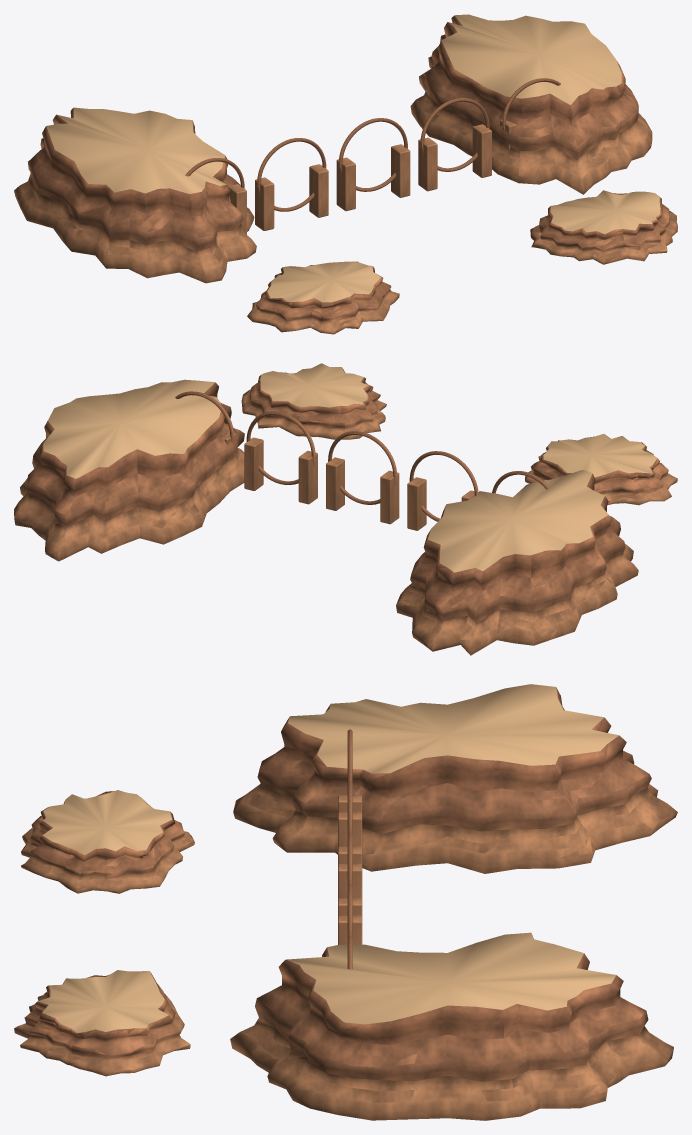
File: desert-ruins-v1.glb
3 views of the same model, one above another, from view 1: azimuth 30°, elevation 25°; view 2: azimuth 150°, elevation 25°; view 3: azimuth 270°, elevation 25° (orthographic). The views are drawn at different scales.
Visible parts, largest first — view 1: desert-ruins mantle, desert-ruins strata 0, desert-ruins strata 1, desert-ruins strata 2; view 2: desert-ruins mantle, desert-ruins strata 0, desert-ruins strata 1, desert-ruins strata 2; view 3: desert-ruins mantle, desert-ruins strata 0, desert-ruins strata 1, desert-ruins strata 2.
Part boxes in pixels (x1,y1,x2,y2): desert-ruins mantle: [46, 14, 660, 302]; desert-ruins strata 0: [14, 56, 677, 334]; desert-ruins strata 1: [28, 34, 670, 322]; desert-ruins strata 2: [42, 15, 662, 308]; desert-ruins mantle: [43, 363, 657, 572]; desert-ruins strata 0: [14, 389, 677, 655]; desert-ruins strata 1: [27, 382, 668, 622]; desert-ruins strata 2: [39, 368, 659, 591]; desert-ruins mantle: [37, 684, 618, 1032]; desert-ruins strata 0: [14, 783, 677, 1120]; desert-ruins strata 1: [24, 729, 651, 1081]; desert-ruins strata 2: [34, 687, 626, 1044].
Bounding box in the file's own units: 103 × 14.52 × 81.54.
4 materials, 3 textured.
